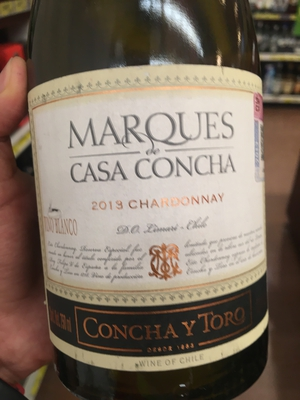marques de casa concha chardonnay: (16, 11, 283, 400)
